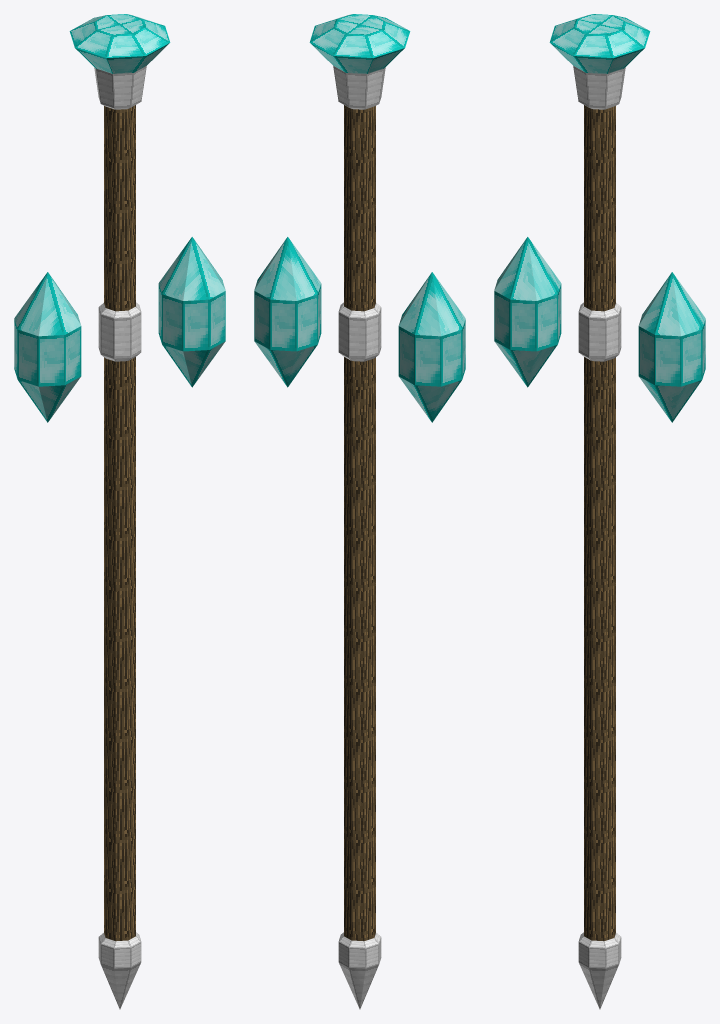
Rendered from staff_emerald.obj.
3 views of the same model, side by side, from view 1: azimuth 30°, elevation 25°; view 2: azimuth 150°, elevation 25°; view 3: azimuth 330°, elevation 25° (orthographic).
Visible parts, largest first — view 1: Wood, Side, Iron, Top; view 2: Wood, Side, Iron, Top; view 3: Wood, Side, Iron, Top.
Boxes of the visible parts, bbox=[...] form: Wood: bbox=[104, 105, 135, 941]; Side: bbox=[14, 237, 225, 422]; Iron: bbox=[94, 66, 146, 1009]; Top: bbox=[69, 14, 170, 73]; Wood: bbox=[344, 105, 375, 941]; Side: bbox=[254, 237, 465, 422]; Iron: bbox=[333, 66, 385, 1009]; Top: bbox=[309, 14, 410, 73]; Wood: bbox=[584, 105, 615, 941]; Side: bbox=[494, 237, 705, 422]; Iron: bbox=[573, 66, 625, 1009]; Top: bbox=[549, 14, 650, 73].
Size of the model in its own units: 4.25 by 19.55 by 1.88.
